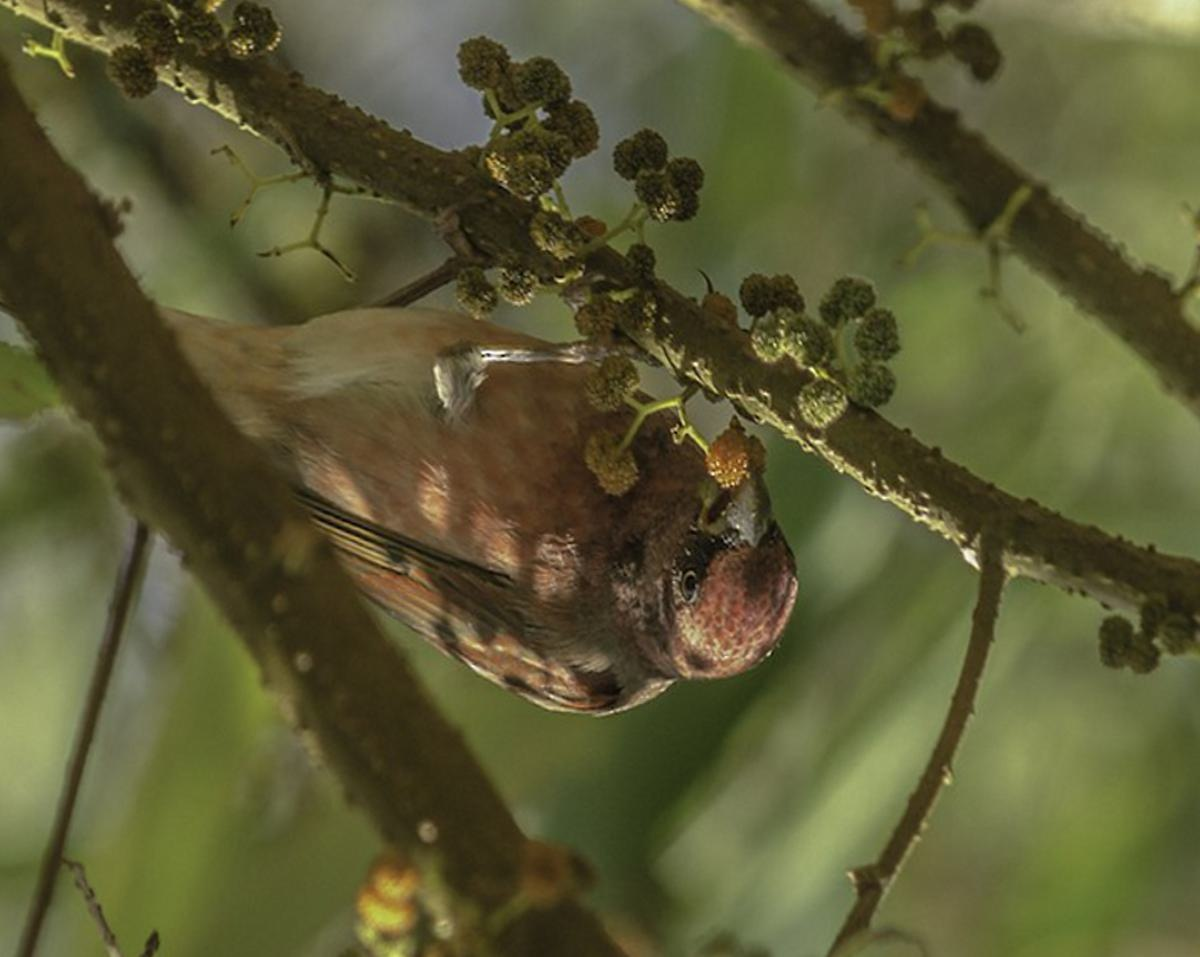rosefinch: (94, 197, 805, 742)
